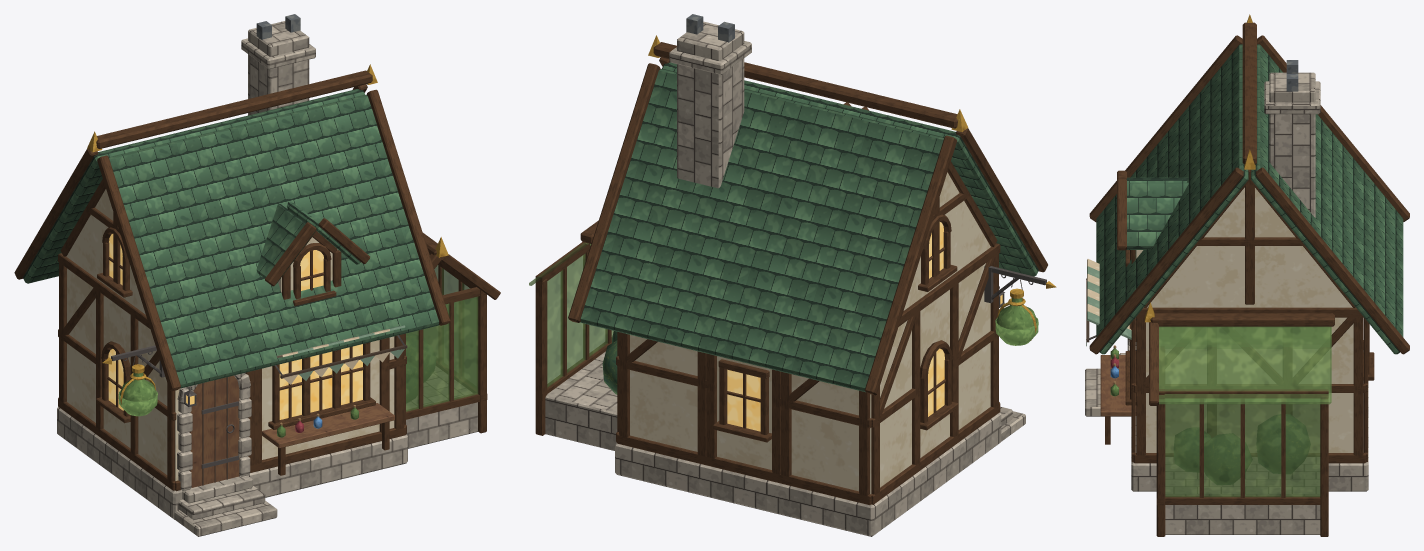
Rendered from alchemy_workshop_exterior.glb.
3 renders of one model, left to right at view 1: azimuth 30°, elevation 25°; view 2: azimuth 150°, elevation 25°; view 3: azimuth 270°, elevation 25°, orthographic. The views are drawn at different scales.
Visible parts, largest first — view 1: alchemy_workshop_exterior_roof, alchemy_workshop_exterior_walls, alchemy_workshop_exterior_glass_annex, alchemy_workshop_exterior_door_leaf, alchemy_workshop_exterior_awning, alchemy_workshop_exterior_flask_sign; view 2: alchemy_workshop_exterior_roof, alchemy_workshop_exterior_walls, alchemy_workshop_exterior_glass_annex, alchemy_workshop_exterior_flask_sign, alchemy_workshop_exterior_sign_bracket; view 3: alchemy_workshop_exterior_roof, alchemy_workshop_exterior_walls, alchemy_workshop_exterior_glass_annex, alchemy_workshop_exterior_awning.
Part boxes in pixels (box(x1,y1,x2,y2)): alchemy_workshop_exterior_roof: box(14, 64, 500, 391); alchemy_workshop_exterior_walls: box(57, 14, 407, 536); alchemy_workshop_exterior_glass_annex: box(406, 261, 487, 448); alchemy_workshop_exterior_door_leaf: box(189, 375, 239, 487); alchemy_workshop_exterior_awning: box(275, 325, 407, 384); alchemy_workshop_exterior_flask_sign: box(118, 354, 157, 416); alchemy_workshop_exterior_roof: box(529, 35, 1047, 395); alchemy_workshop_exterior_walls: box(615, 14, 1025, 536); alchemy_workshop_exterior_glass_annex: box(535, 242, 617, 450); alchemy_workshop_exterior_flask_sign: box(995, 278, 1038, 345); alchemy_workshop_exterior_sign_bracket: box(984, 266, 1056, 303); alchemy_workshop_exterior_roof: box(1089, 14, 1409, 405); alchemy_workshop_exterior_walls: box(1085, 60, 1374, 491); alchemy_workshop_exterior_glass_annex: box(1156, 347, 1328, 536); alchemy_workshop_exterior_awning: box(1086, 259, 1136, 346).
Size of what is drawn, in the model's own units: 6.48 by 6.19 by 4.57.
Materials: 21 (21 with a texture image).
